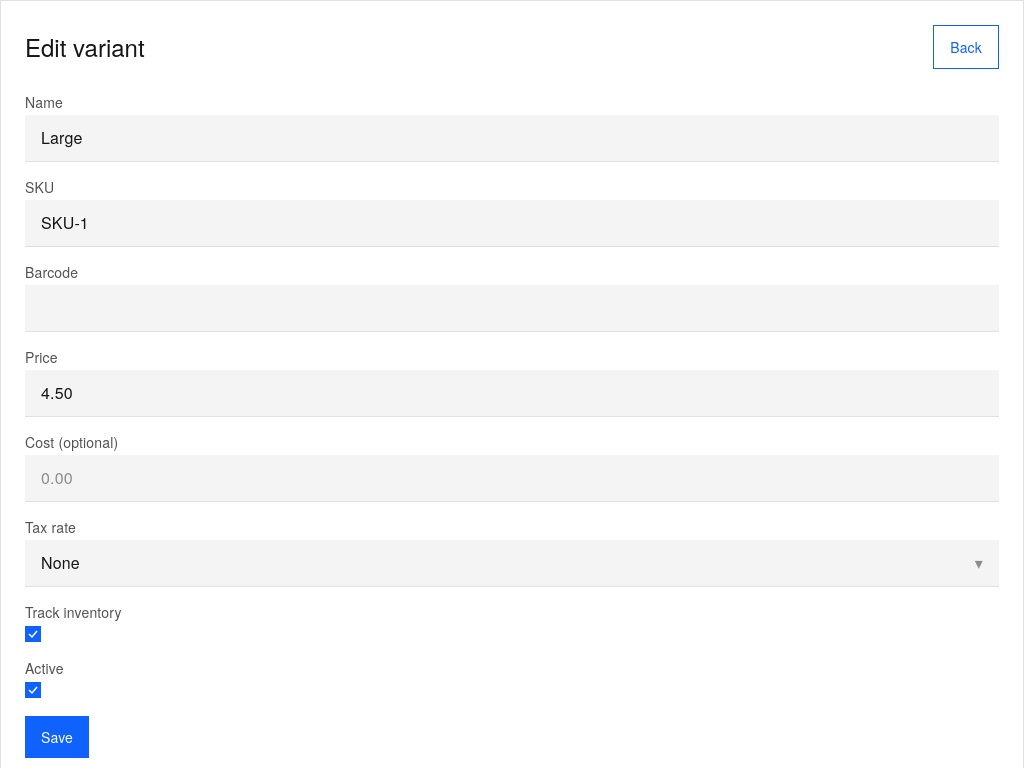
Test case: VariantEditor › does not save an archive when the ConfirmDialog is cancelled
Click the checkbox named "active" below "Active". click: (33, 690)
box: [25,682,41,698]
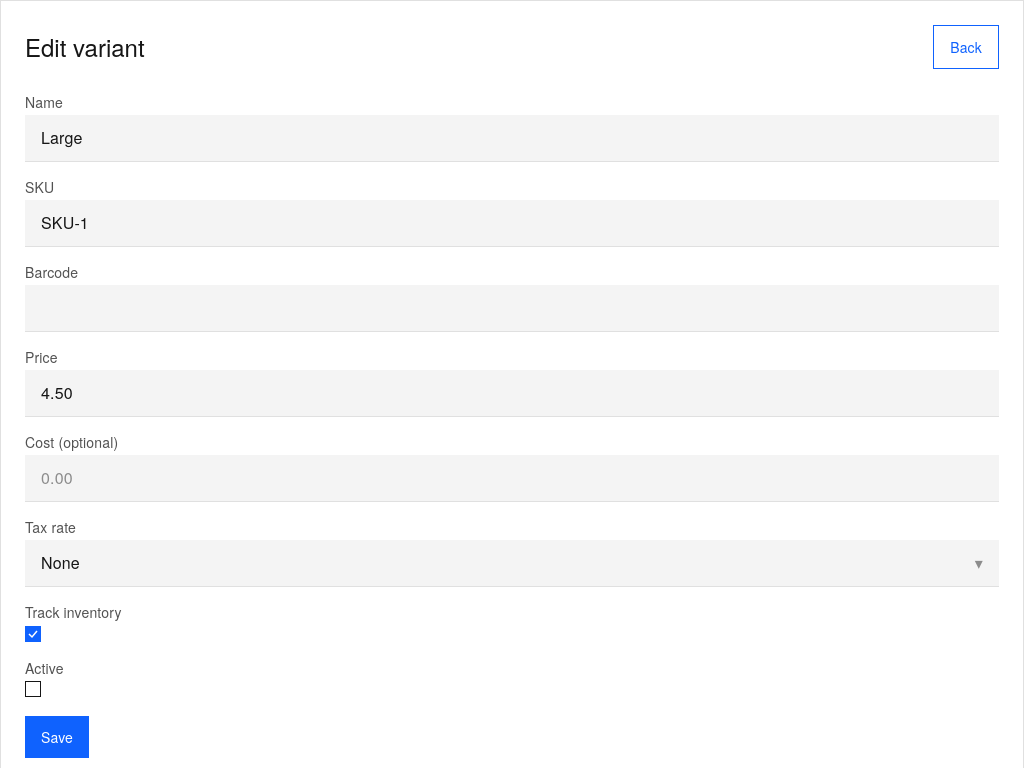
Click the button "Save". click: (57, 736)
box: [25,716,89,758]
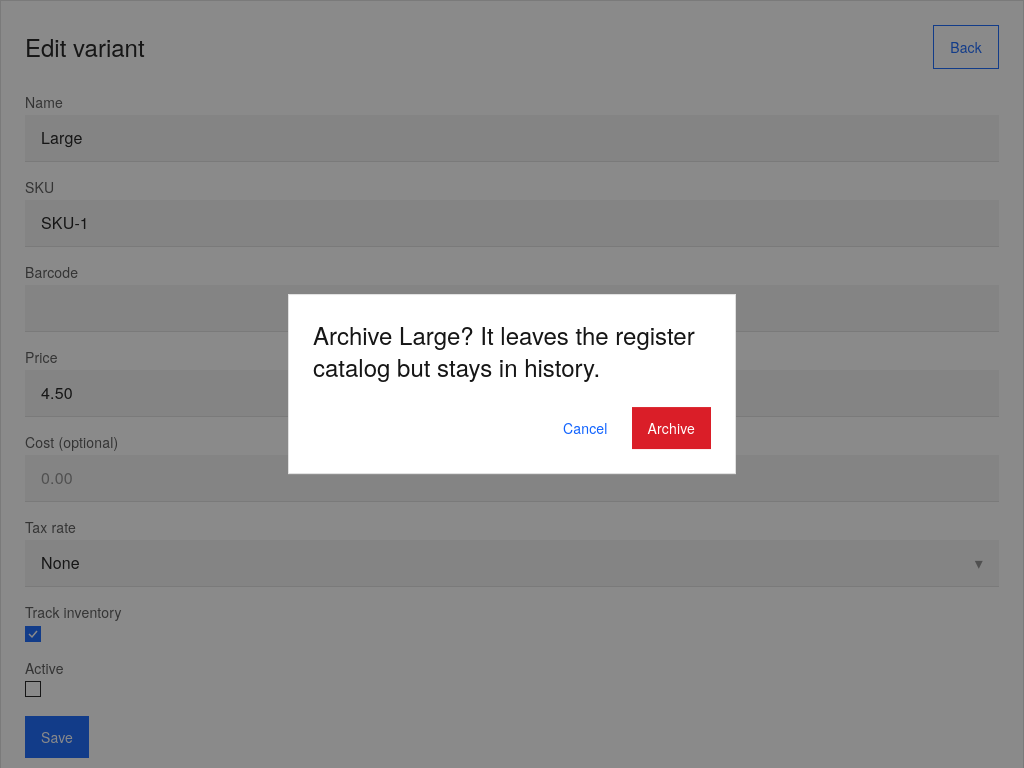
Expected: the heading "Archive Large? It leaves the register catalog but stays in history." is shown, [313,319,711,383]
Click the button "Cancel". click: (585, 428)
box: [547,407,624,449]
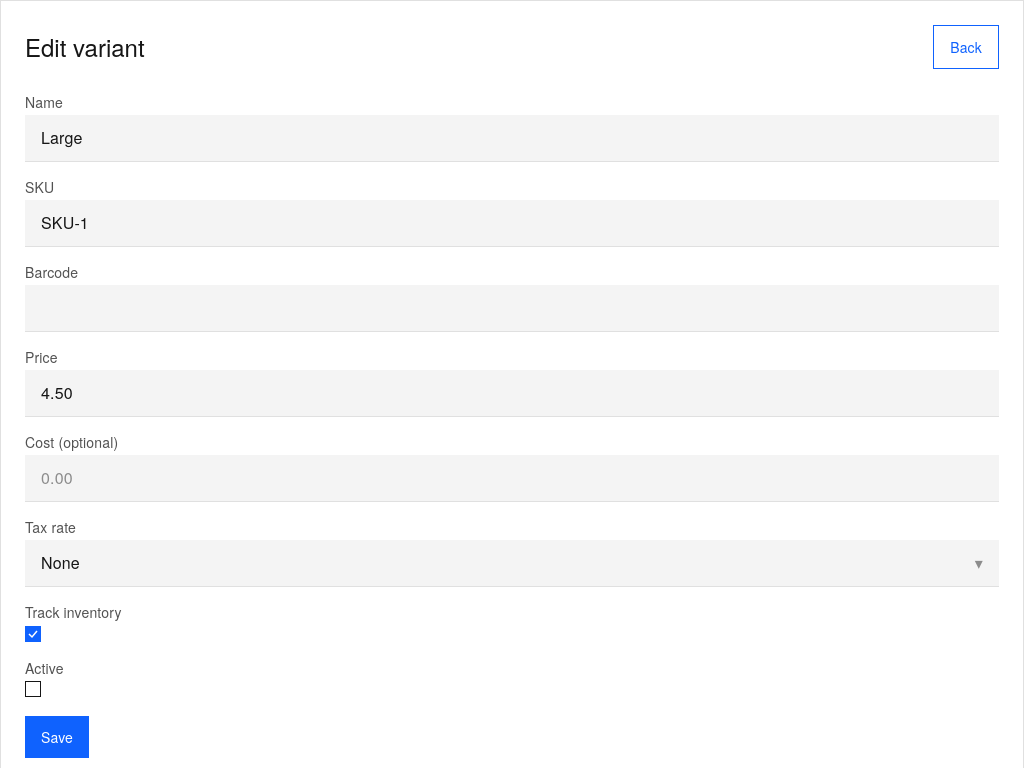
Expected: the dialog is gone
